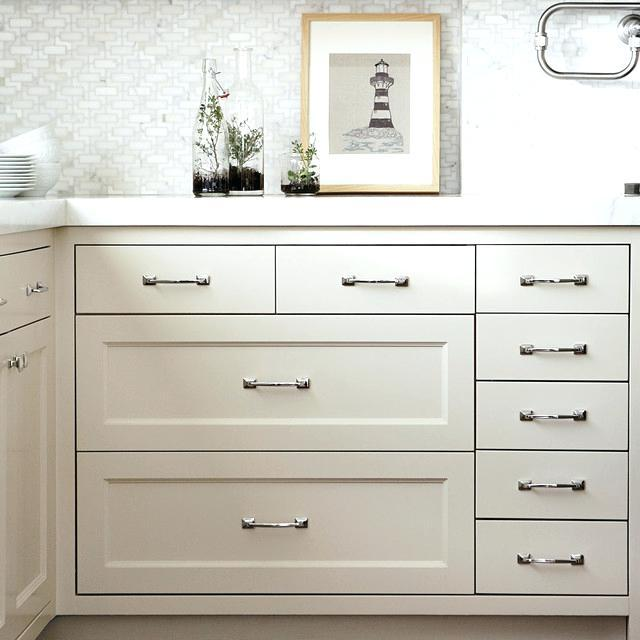cabinet_door: (76, 318, 478, 448), (78, 457, 472, 589), (71, 248, 279, 306), (278, 252, 476, 312), (10, 336, 52, 608), (477, 380, 629, 454), (476, 522, 626, 593), (478, 248, 632, 316), (474, 451, 628, 519), (474, 316, 628, 381), (16, 257, 52, 317)
handle: (520, 472, 586, 502), (521, 546, 584, 572), (525, 337, 587, 363), (240, 514, 312, 534), (522, 406, 586, 428), (340, 272, 410, 292), (142, 272, 212, 292), (240, 377, 314, 393), (524, 274, 585, 292), (11, 348, 31, 382), (25, 278, 49, 298)
